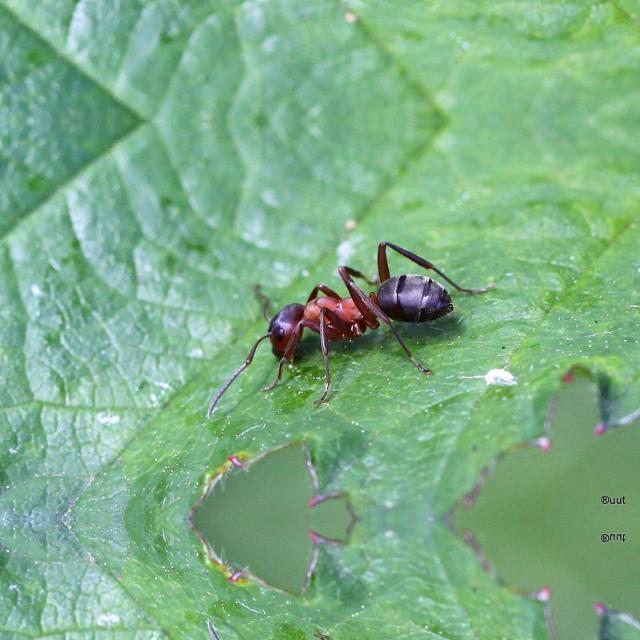Formica: (251, 263, 461, 377)
